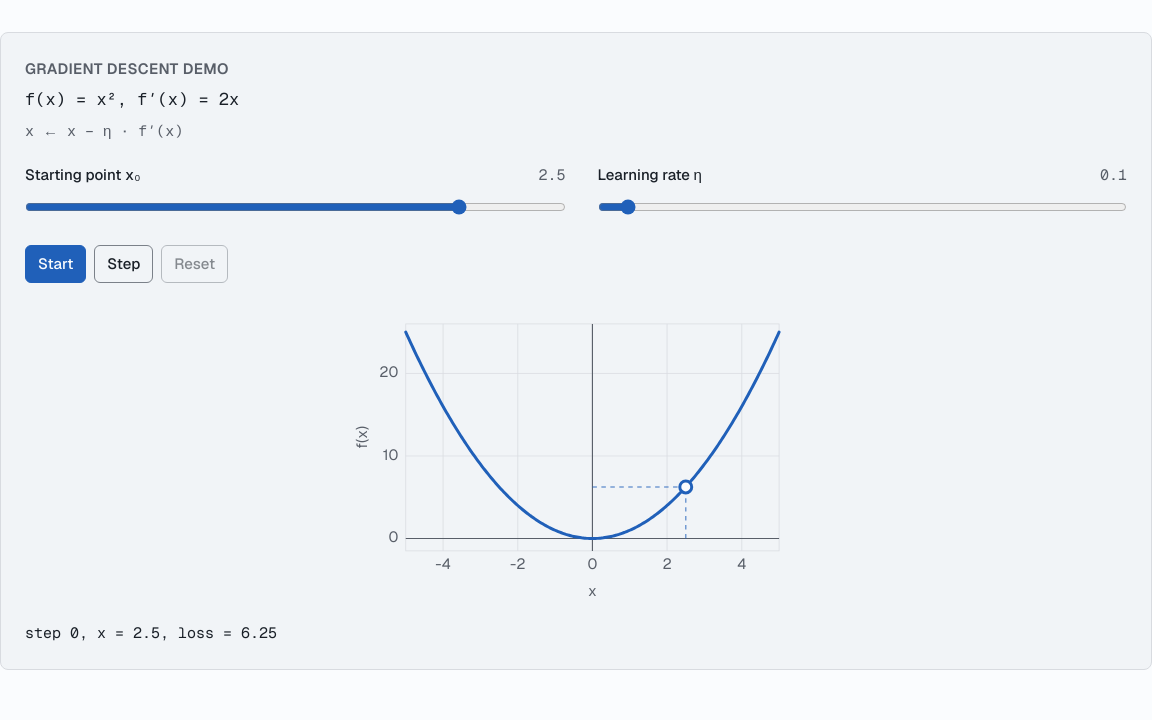
GradientDescentDemo › animates a run, and pauses where it is
Click the button "Start": (56, 264) [25, 244, 86, 282]
Wait 1000 ms
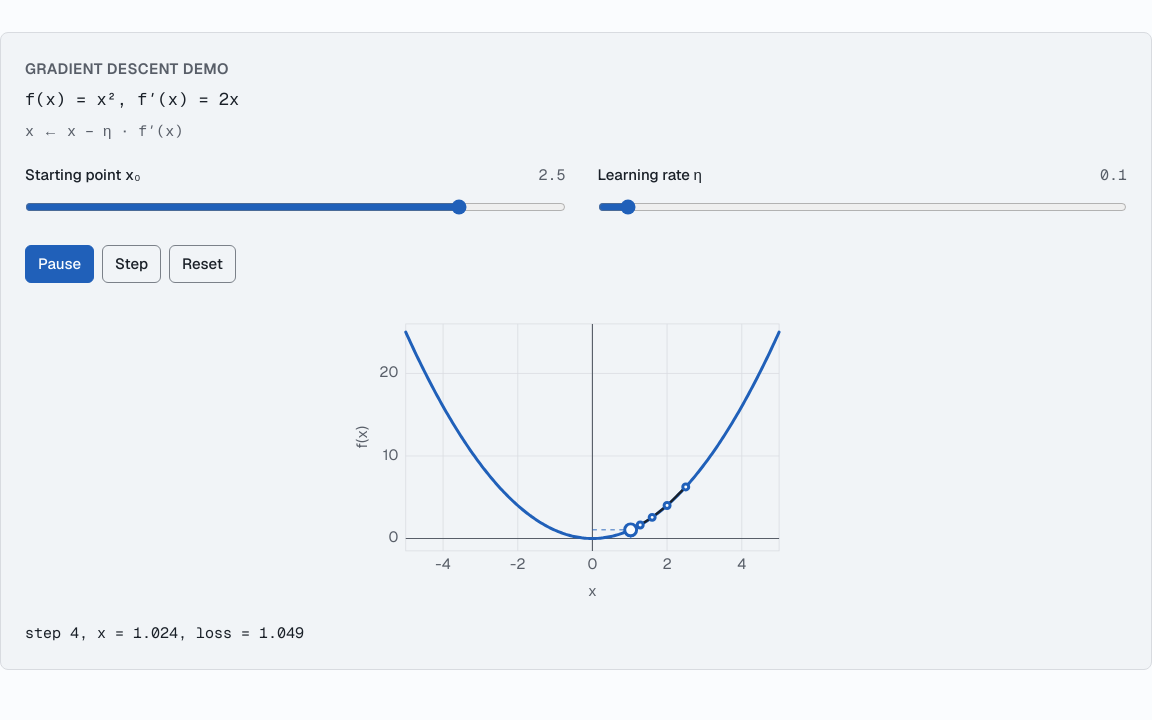
expect the button "Pause" is shown: met
Click the button "Pause": (60, 264) [25, 244, 94, 282]
Wait 5000 ms
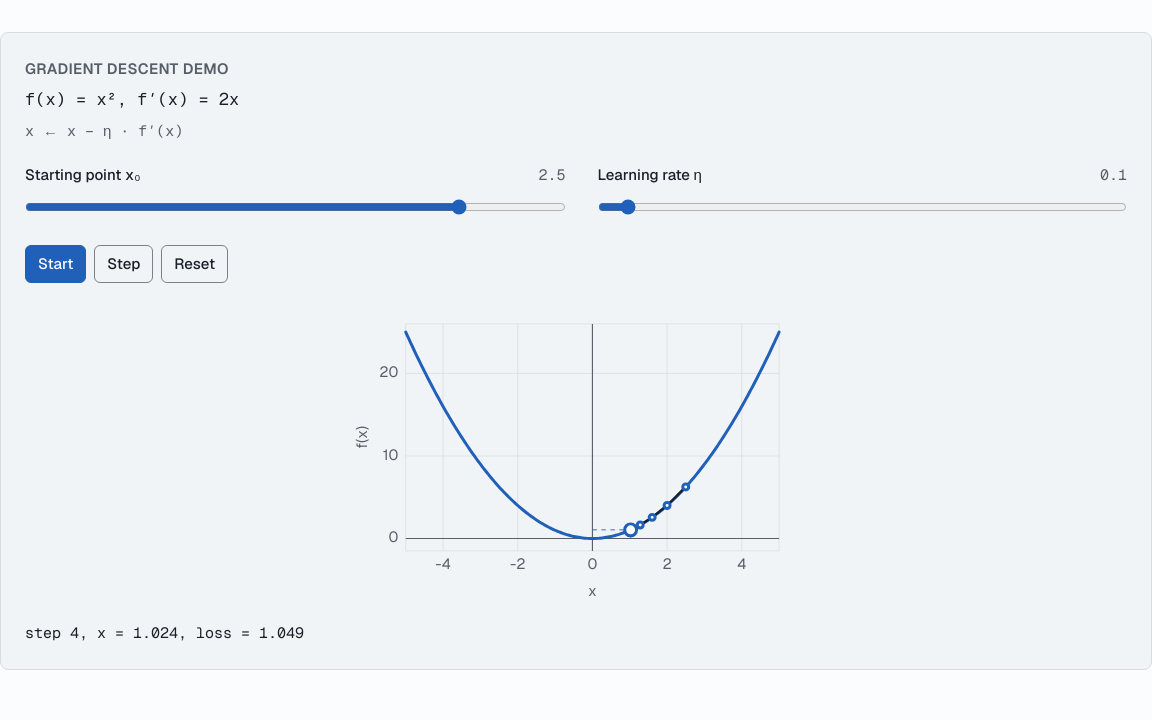
expect the button "Start" is shown: met, box [25, 244, 86, 282]
